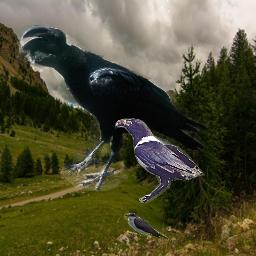Crow: (17, 25, 208, 191), (115, 118, 205, 203)
Cuckoo: (124, 213, 176, 244)
